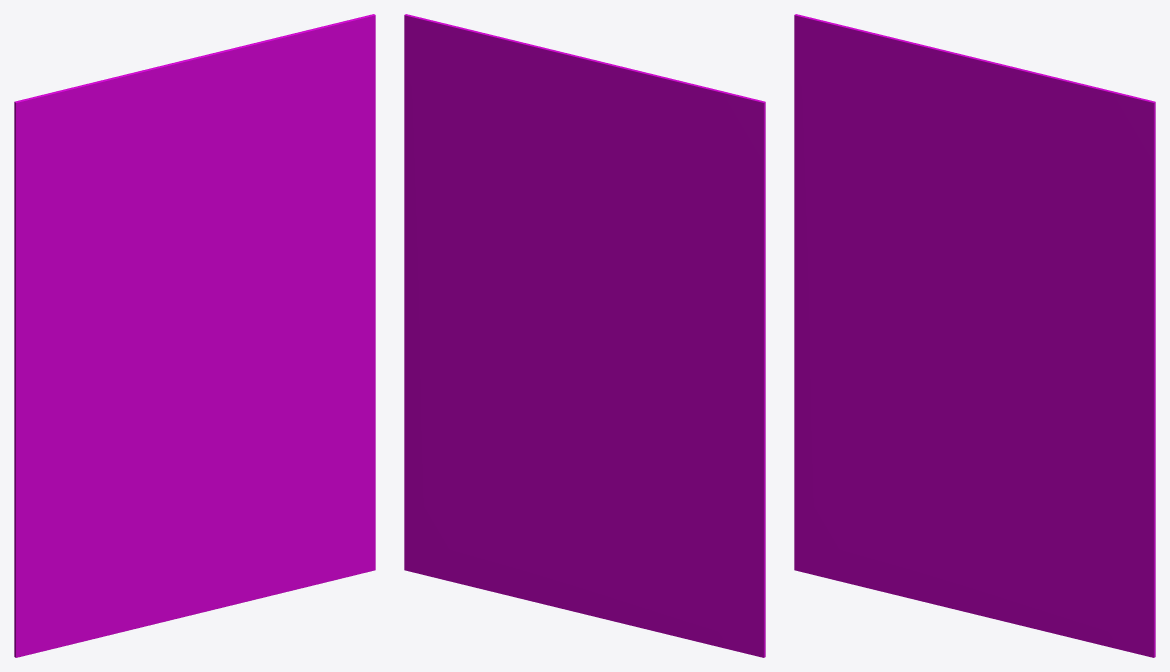
File: vidrio cuadro 3.fbx
3 views of the same model, side by side, from view 1: azimuth 30°, elevation 25°; view 2: azimuth 150°, elevation 25°; view 3: azimuth 330°, elevation 25° (orthographic).
Visible parts, largest first — view 1: vidrio_cuadro_3; view 2: vidrio_cuadro_3; view 3: vidrio_cuadro_3.
Boxes of the visible parts, x1,y1,x2,y2 form: vidrio_cuadro_3: [14, 14, 375, 657]; vidrio_cuadro_3: [404, 14, 765, 657]; vidrio_cuadro_3: [794, 14, 1155, 657].
Size of the model in its own units: 62.58 by 92.29 by 0.5569.
